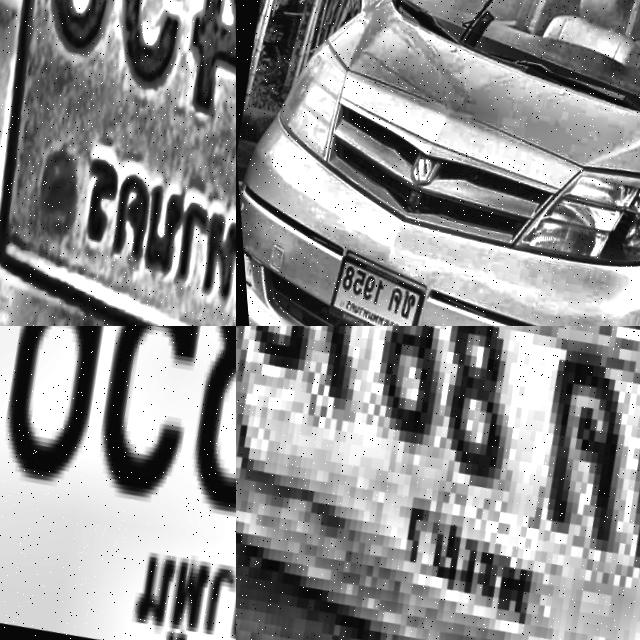license-plate: (236, 326, 640, 640), (0, 0, 236, 326), (0, 326, 236, 640), (309, 244, 429, 326)
